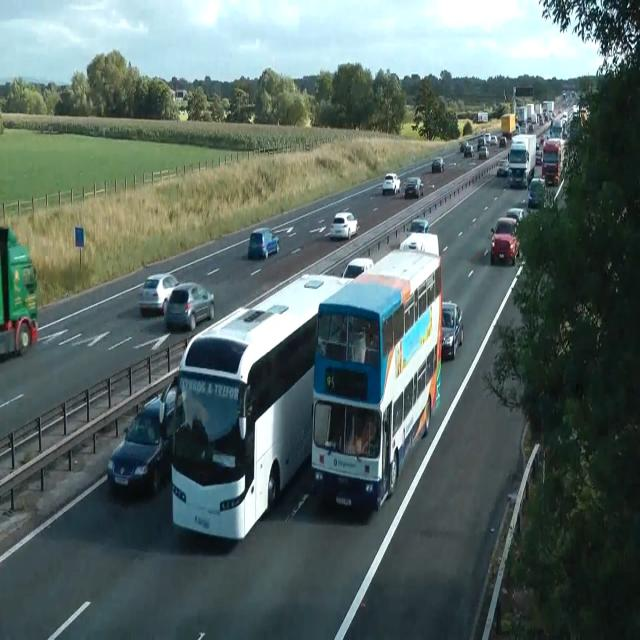bus: (164, 281, 215, 332), (139, 272, 179, 316), (441, 299, 463, 361), (158, 376, 180, 438), (248, 228, 280, 260), (329, 211, 359, 240), (341, 257, 373, 281), (528, 177, 546, 209), (404, 176, 424, 198), (382, 172, 400, 195), (506, 207, 528, 224), (409, 218, 429, 233), (496, 158, 509, 177), (431, 156, 445, 172), (478, 145, 489, 159), (464, 143, 474, 157), (490, 134, 498, 145), (498, 136, 506, 147)
car: (170, 271, 350, 541), (310, 246, 443, 511)
jeep: (106, 402, 170, 495), (490, 216, 519, 265), (540, 139, 562, 185)
minibus: (0, 225, 38, 359), (508, 132, 536, 188), (516, 103, 536, 125), (500, 113, 516, 138), (477, 111, 488, 123)
